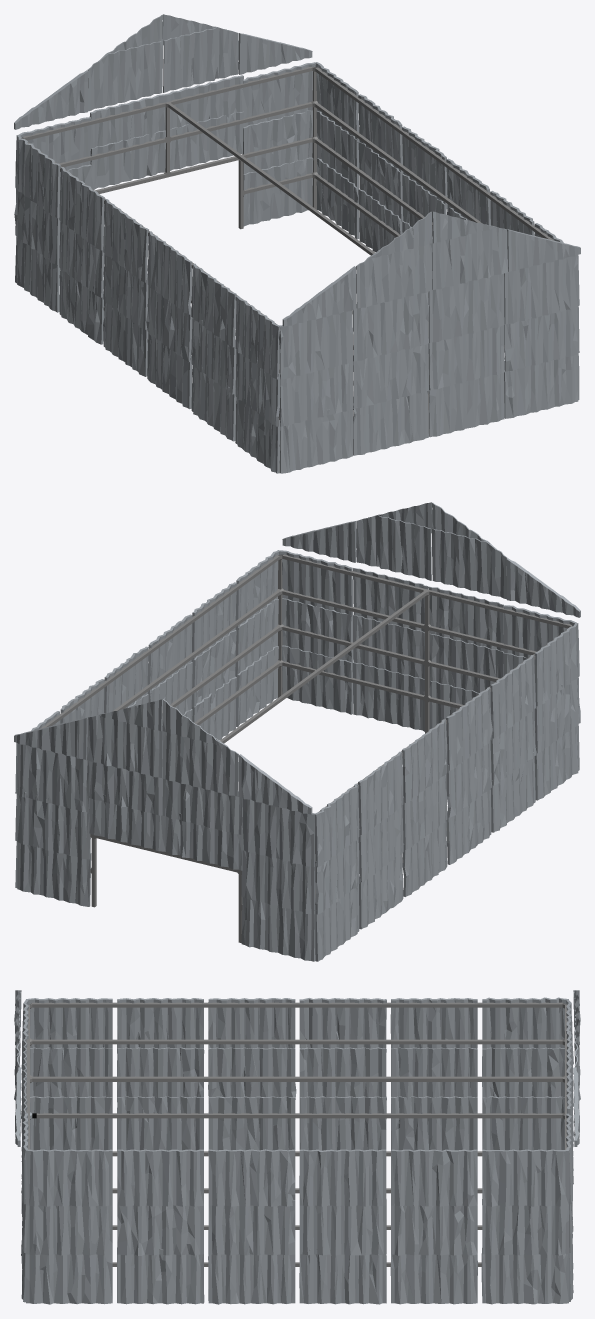
The model's file is nnnnn.fbx.
3 views of the same model, one above another, from view 1: azimuth 30°, elevation 25°; view 2: azimuth 150°, elevation 25°; view 3: azimuth 270°, elevation 25° (orthographic). The views are drawn at different scales.
Parts seen in each view (by area): view 1: 1.001; view 2: 1.001; view 3: 1.001.
Boxes of the visible parts, x1,y1,x2,y2 form: 1.001: (14,14,580,473); 1.001: (14,502,580,961); 1.001: (14,990,580,1304).
Bounding box in the file's own units: 2016 × 1428 × 3100.
